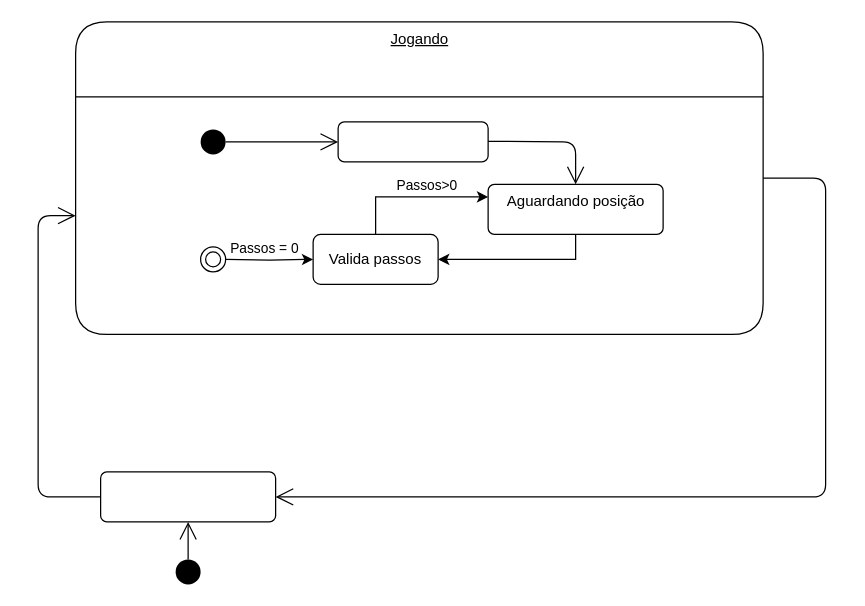
The diagram is 865 pixels wide and 606 high, and some of its shapes have lost their labels. Here are the shapes that lost their labels. From the top down, the centre of each, then its label:
At (x=412, y=141): "Esperando Dado".
At (x=187, y=496): "Esperando Servidor".
